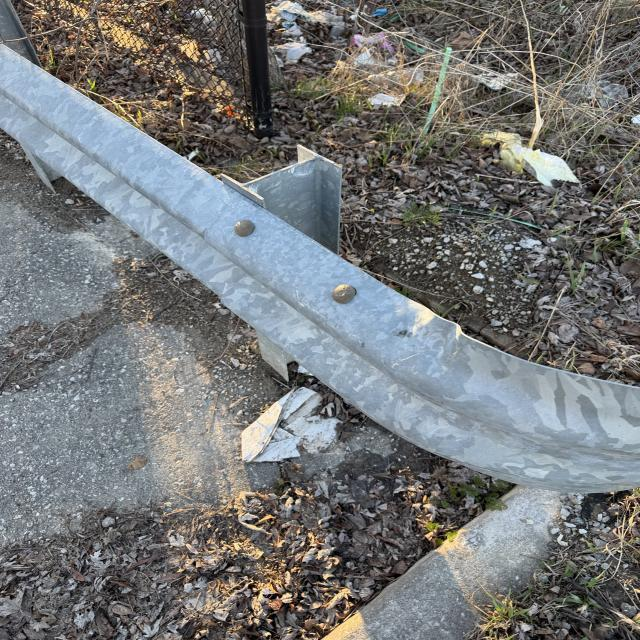Guard rail: (0, 79, 603, 454)
